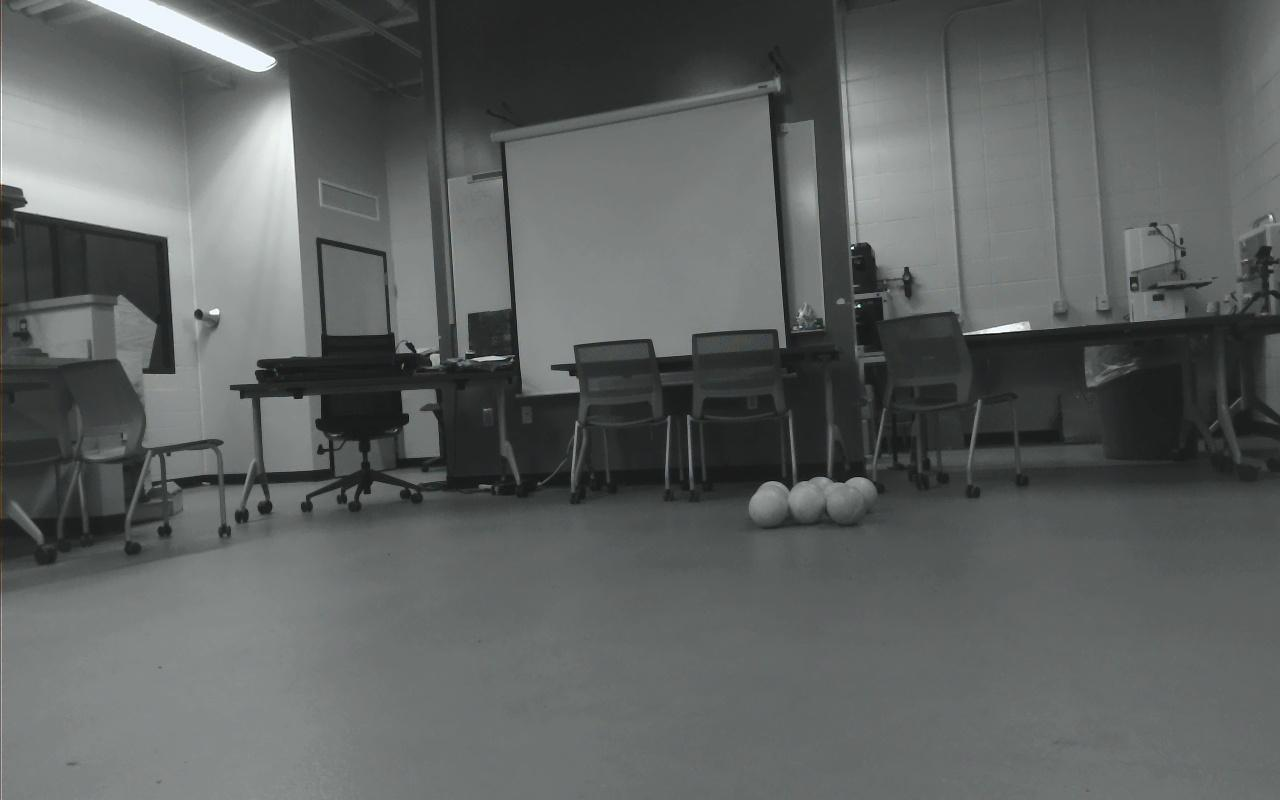Fuel: (748, 488, 788, 529), (826, 485, 865, 526), (787, 485, 826, 525), (754, 479, 791, 517), (841, 477, 877, 515), (790, 480, 826, 517), (820, 482, 853, 518), (753, 485, 789, 516), (804, 477, 835, 510)
